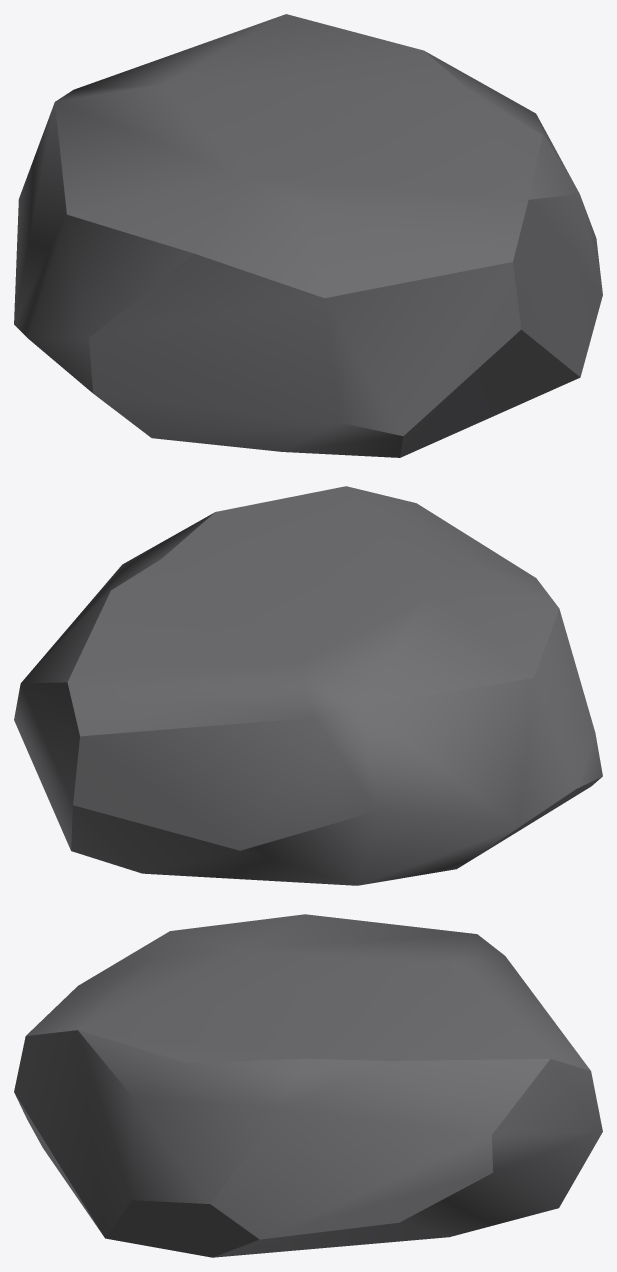
The model's file is Stone_05.fbx.
3 views of the same model, one above another, from view 1: azimuth 30°, elevation 25°; view 2: azimuth 150°, elevation 25°; view 3: azimuth 270°, elevation 25° (orthographic). The views are drawn at different scales.
Parts seen in each view (by area): view 1: Stone_05; view 2: Stone_05; view 3: Stone_05.
Part boxes in pixels (box(x1,y1,x2,y2)): Stone_05: box(14, 14, 602, 457); Stone_05: box(14, 486, 602, 885); Stone_05: box(14, 914, 602, 1257).
Bounding box in the file's own units: 142 × 54.49 × 159.
